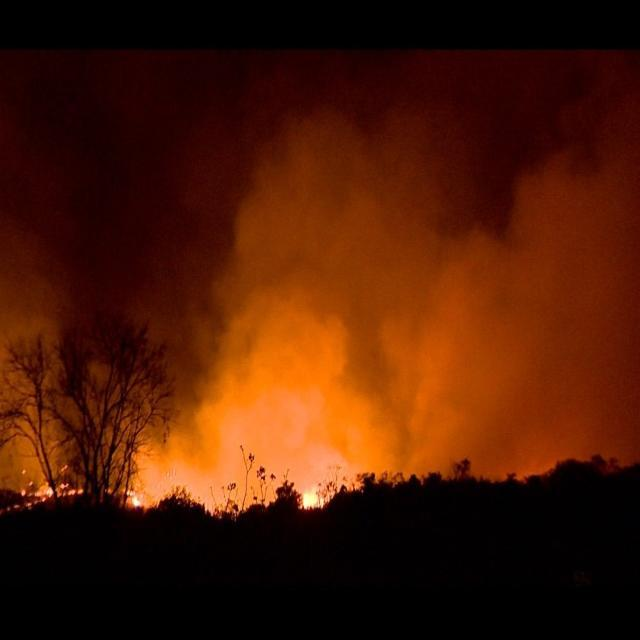Fire: (5, 468, 80, 512), (304, 484, 326, 510), (124, 484, 142, 508)
Smoke: (400, 400, 464, 477), (300, 447, 358, 490)
